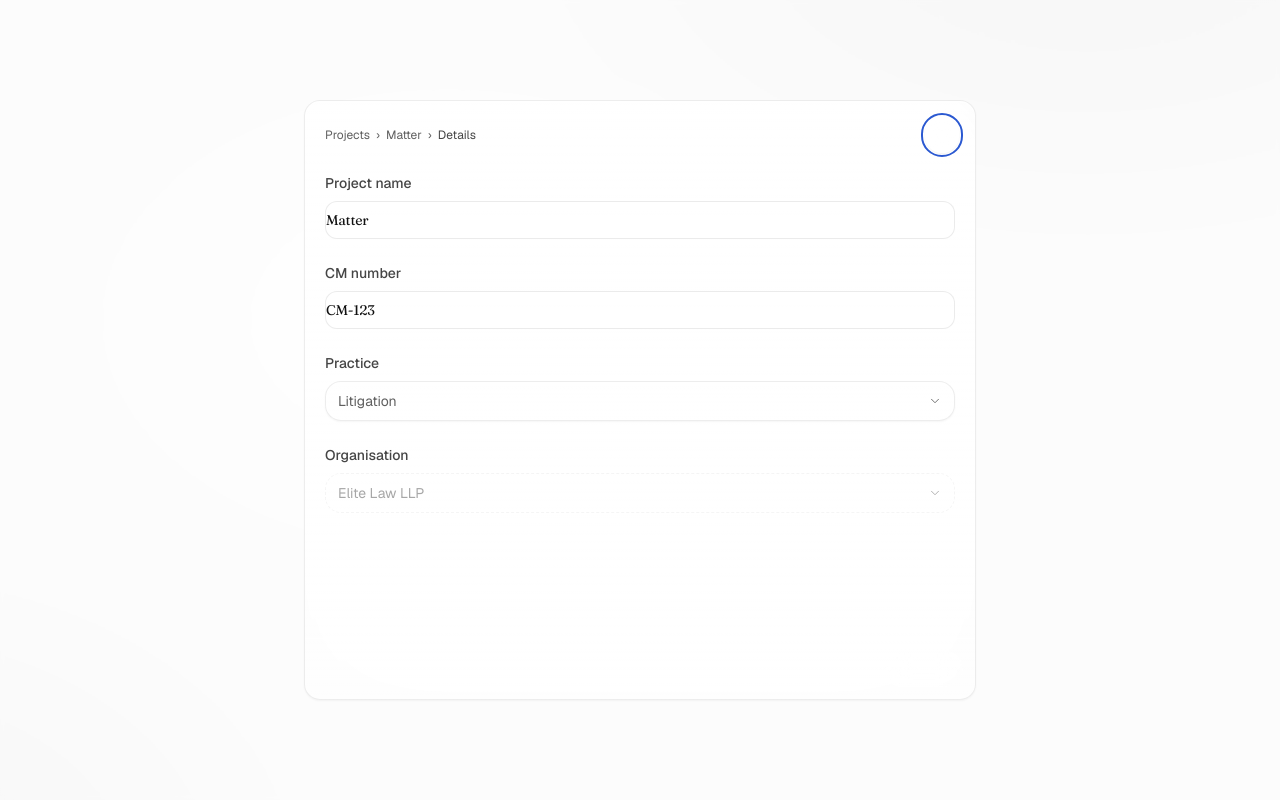
ProjectDetailsModal › reports what an intentional refusal said instead of a generic line
Replace the text in the field labelled "Project name" with "Renamed": (640, 220) [325,201,955,239]
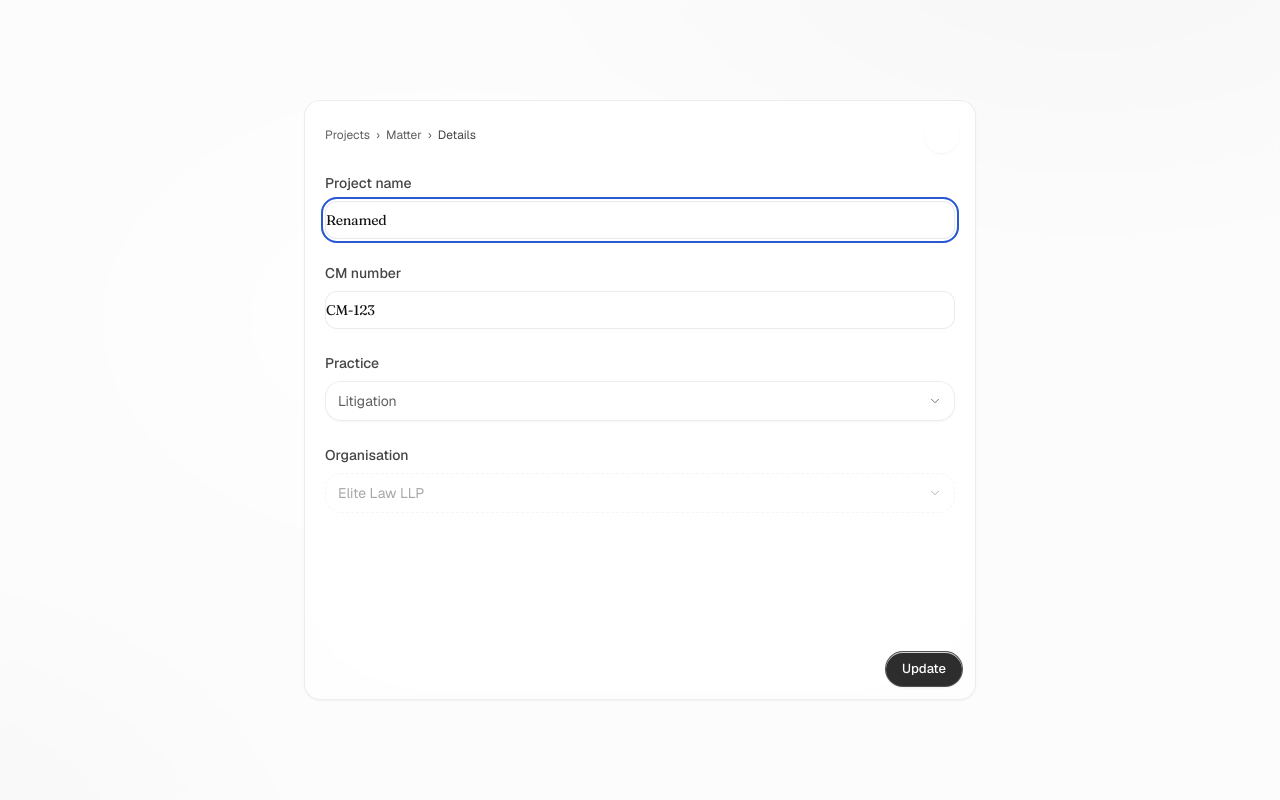
Click the button named "Update": click(924, 669) [885,651,963,687]
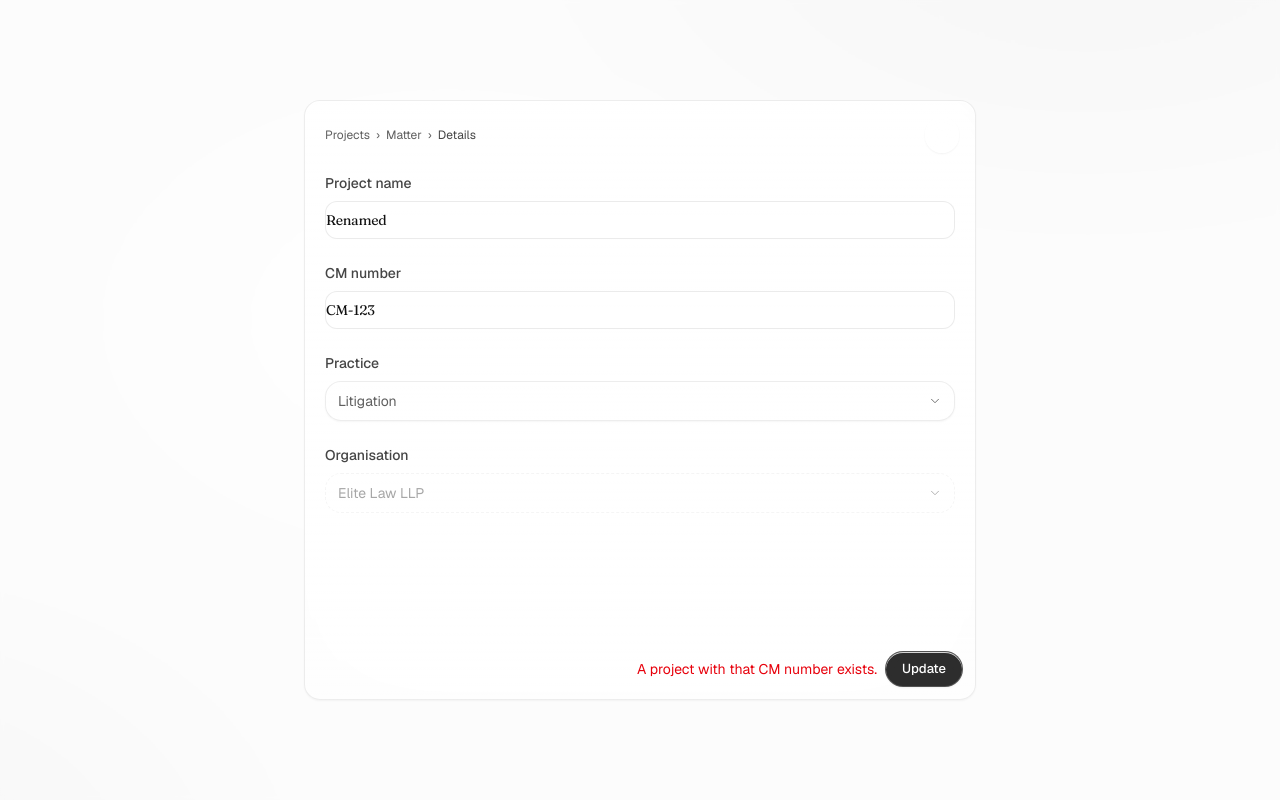
expect the text "A project with that CM number exists." is shown: met, box [637,659,877,679]
